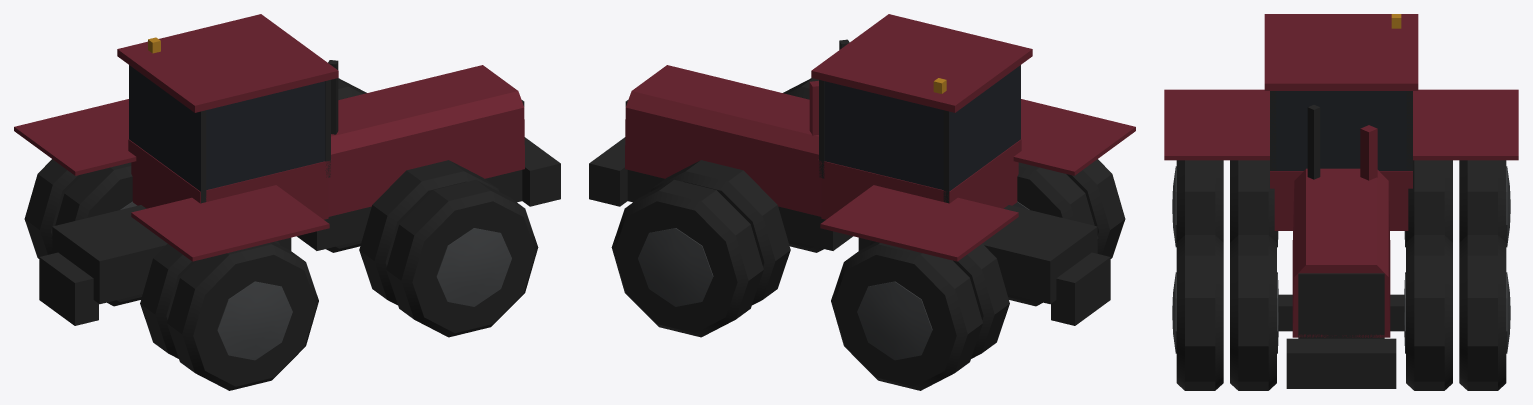
File: SM_Prop_farm_tractor4wd_1_LOD1.glb
The picture shows the model from 3 angles, left to right: view 1: azimuth 30°, elevation 25°; view 2: azimuth 150°, elevation 25°; view 3: azimuth 270°, elevation 25°; orthographic projection.
Visible parts, largest first — view 1: SM_Prop_farm_tractor4wd_1_LOD1; view 2: SM_Prop_farm_tractor4wd_1_LOD1; view 3: SM_Prop_farm_tractor4wd_1_LOD1.
Boxes of the visible parts, bbox=[...] form: SM_Prop_farm_tractor4wd_1_LOD1: bbox=[14, 14, 560, 390]; SM_Prop_farm_tractor4wd_1_LOD1: bbox=[589, 14, 1135, 390]; SM_Prop_farm_tractor4wd_1_LOD1: bbox=[1164, 14, 1518, 390].
Size of the model in its own units: 6.95 by 3.7 by 4.51.
